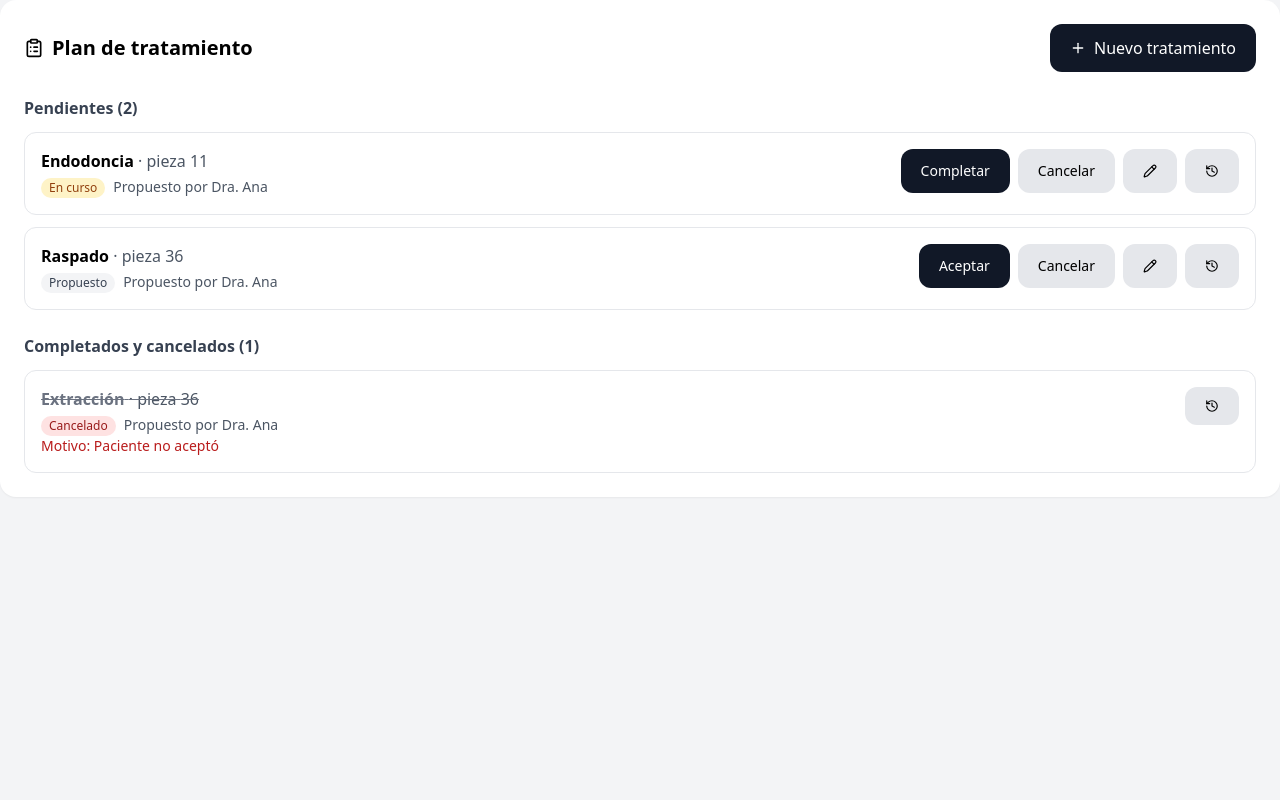
Scenario: TreatmentsCard › muestra el historial de estados
Expected: the text "Raspado" is shown, [41, 245, 109, 267]
Click the button named "Historial de Raspado" at (1212, 266), box [1185, 244, 1239, 288]
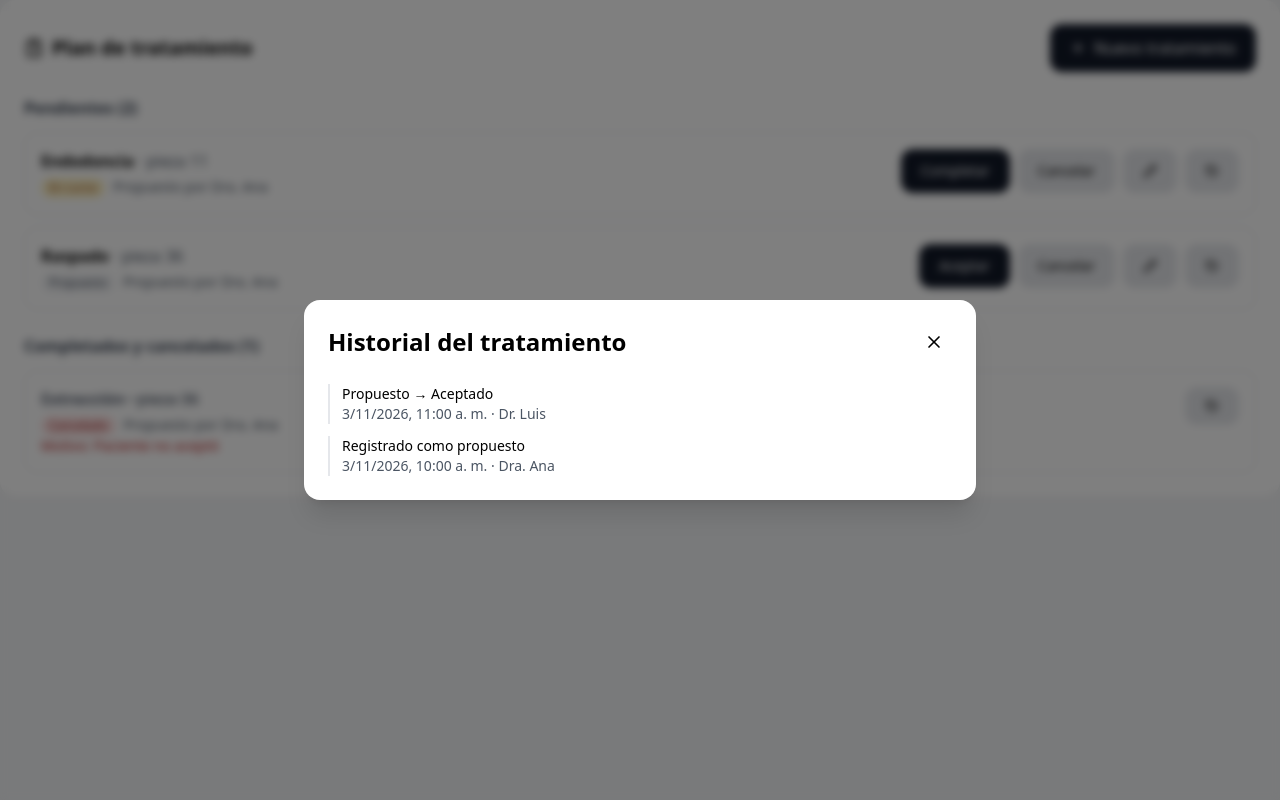
Expected: the text "Propuesto → Aceptado" is shown, [342, 384, 493, 403]
Expected: the text "Registrado como propuesto" is shown, [342, 436, 525, 455]
